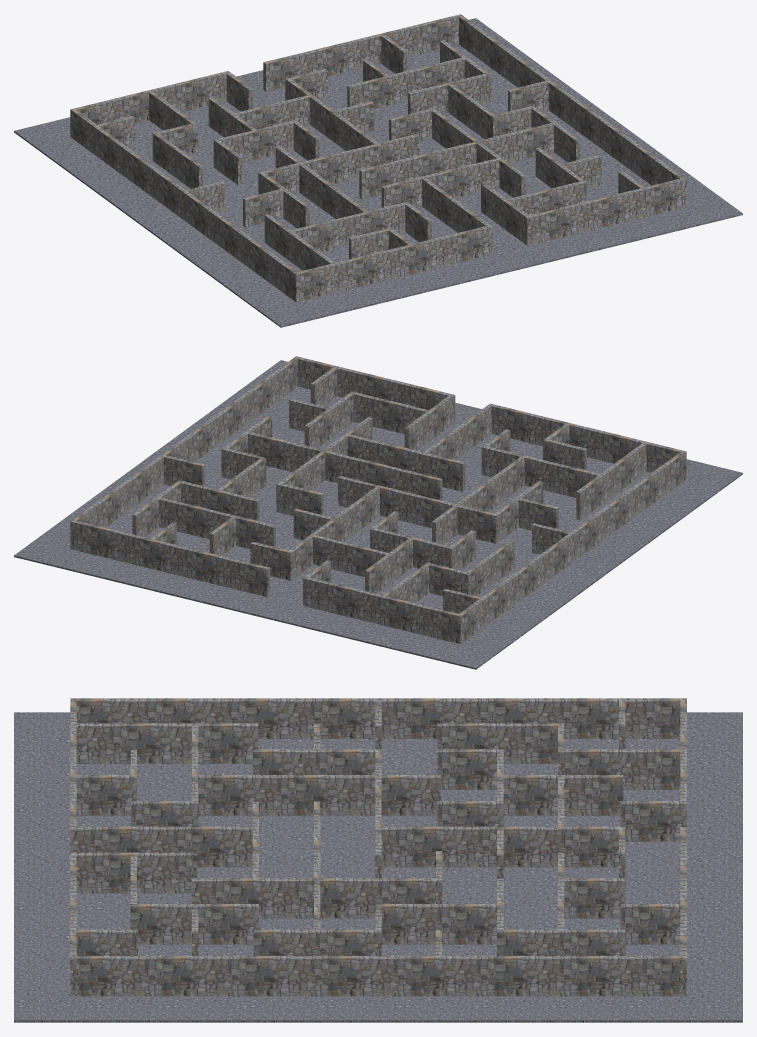
Rendered from laberinto-tex.fbx.
The picture shows the model from 3 angles, top to bottom: view 1: azimuth 30°, elevation 25°; view 2: azimuth 150°, elevation 25°; view 3: azimuth 270°, elevation 25°; orthographic projection. The views are drawn at different scales.
Visible parts, largest first — view 1: Plane, Cube.006, Cube, Cube.005, Cube.001, Cube.004, Cube.031, Cube.003, Cube.032, Cube.046, Cube.030, Cube.029 (+34 smaller); view 2: Plane, Cube.006, Cube, Cube.001, Cube.003, Cube.031, Cube.005, Cube.032, Cube.004, Cube.030, Cube.046, Cube.029 (+32 smaller); view 3: Plane, Cube, Cube.006, Cube.016, Cube.021, Cube.013, Cube.027, Cube.015, Cube.011, Cube.014, Cube.010, Cube.022 (+22 smaller).
Part boxes in pixels (x1,y1,x2,y2): Plane: (14,18,742,327); Cube.006: (71,110,299,301); Cube: (459,16,685,185); Cube.005: (296,226,492,302); Cube.001: (263,14,462,91); Cube.004: (525,179,686,245); Cube.031: (359,122,557,199); Cube.003: (70,71,229,137); Cube.032: (258,134,419,194); Cube.046: (347,56,467,108); Cube.030: (381,158,499,207); Cube.029: (288,202,408,252); Plane: (14,360,742,669); Cube.006: (459,450,686,643); Cube: (73,356,299,527); Cube.001: (70,520,269,597); Cube.003: (303,576,462,644); Cube.031: (244,431,442,500); Cube.005: (491,404,686,478); Cube.032: (338,476,498,543); Cube.004: (297,356,455,424); Cube.030: (347,434,465,491); Cube.046: (155,496,275,548); Cube.029: (481,445,603,497); Plane: (14,712,742,1022); Cube: (70,956,680,996); Cube.006: (70,698,680,738); Cube.016: (375,826,618,867); Cube.021: (196,775,440,815); Cube.013: (191,878,435,918); Cube.027: (71,723,258,763); Cube.015: (70,826,252,867); Cube.011: (130,904,258,944); Cube.014: (71,852,197,893); Cube.010: (375,904,496,944); Cube.022: (503,775,623,815).
Bounding box in the file's own units: 1885 × 114 × 1886.
3 materials, 3 textured.
